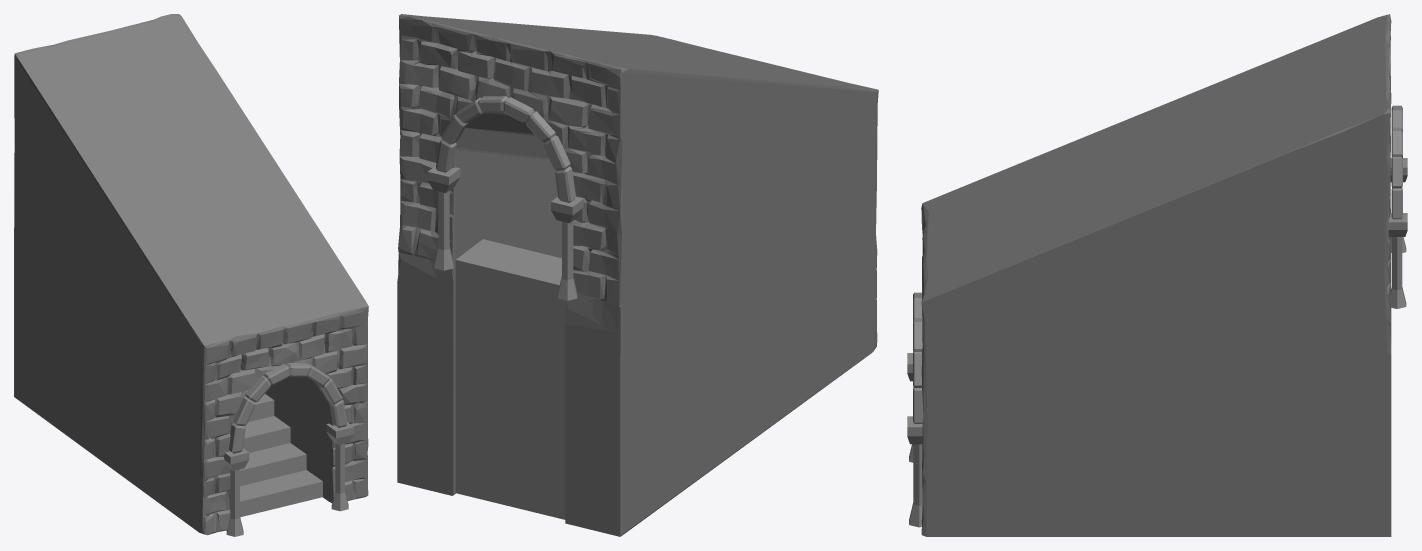
The model's file is modular_stairs_b.FBX.
The picture shows the model from 3 angles, left to right: view 1: azimuth 30°, elevation 25°; view 2: azimuth 150°, elevation 25°; view 3: azimuth 270°, elevation 25°; orthographic projection. The views are drawn at different scales.
Visible parts, largest first — view 1: modular_stairs_b; view 2: modular_stairs_b; view 3: modular_stairs_b.
Part boxes in pixels (<box>): modular_stairs_b: <box>14,14,368,536</box>; modular_stairs_b: <box>397,14,878,536</box>; modular_stairs_b: <box>907,14,1407,536</box>.
Size of the model in its own units: 3 by 6.04 by 6.39.
